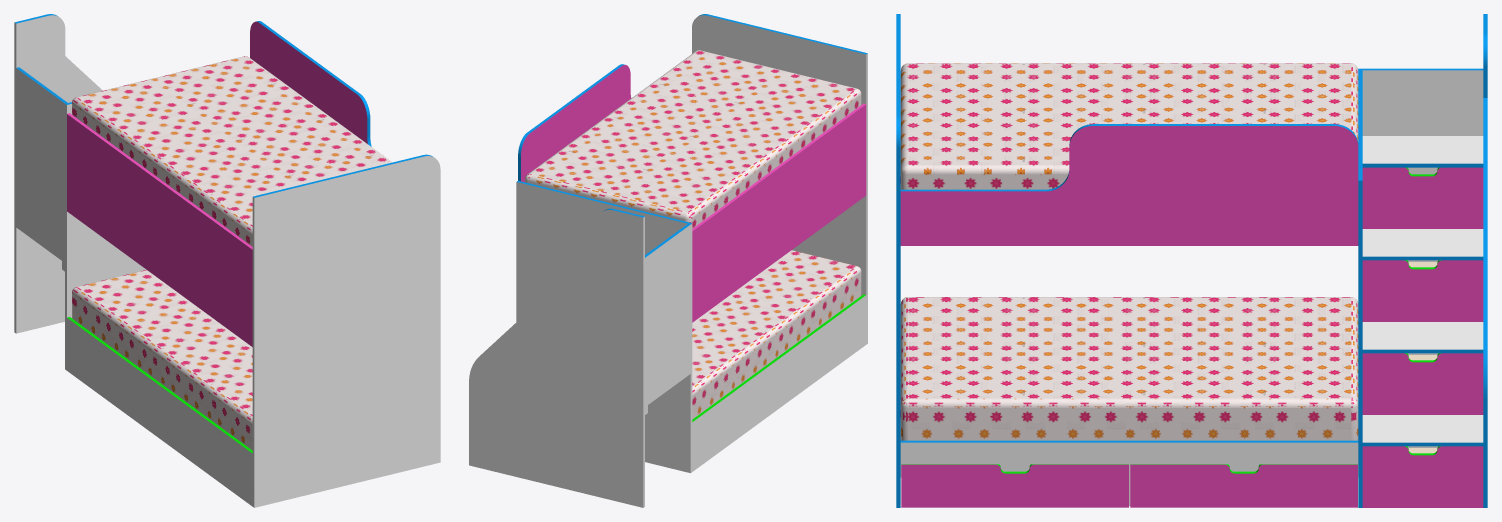
Rendered from Camarote-02.glb.
3 renders of one model, left to right at view 1: azimuth 30°, elevation 25°; view 2: azimuth 150°, elevation 25°; view 3: azimuth 270°, elevation 25°, orthographic. The views are drawn at different scales.
Visible parts, largest first — view 1: Cama-Espaldar01, 6615, Cama-Lateral04, 6616, Cama-Lateral02, Cama-Espaldar03, Cama-Lateral03, Cama-EscaleraApoyo01 (×2), Cama-Espaldar02, Cama-EscaleraApoyo02; view 2: Cama-Espaldar03, 6615, Cama-Lateral04, 6616, Cama-Espaldar02, Cama-Espaldar01, Cama-Lateral02, Cama-Lateral03, Cama-EscaleraApoyo01 (×2), Cama-EscaleraApoyo02; view 3: 6616, Cama-Lateral03, 6615, Cama-PuertaCajon02 (×4), Cama-PuertaCajon03 (×2), Cama-EscaleraSuperior02 (×3), Cama-Lateral01, Cama-EscaleraApoyo02, Cama-EscaleraSuperior0|, Cama-Espaldar01, Cama-Espaldar03, Cama-Espaldar02.
Part boxes in pixels (box(x1,y1,x2,y2)): Cama-Espaldar01: box(252, 154, 440, 507); 6615: box(72, 56, 392, 246); Cama-Lateral04: box(67, 113, 252, 346); 6616: box(72, 269, 252, 450); Cama-Lateral02: box(67, 317, 252, 506); Cama-Espaldar03: box(14, 14, 102, 333); Cama-Lateral03: box(250, 21, 371, 146); Cama-EscaleraApoyo01 (×2): box(16, 124, 64, 262); Cama-Espaldar02: box(65, 102, 145, 370); Cama-EscaleraApoyo02: box(16, 67, 67, 156); Cama-Espaldar03: box(469, 208, 644, 507); 6615: box(525, 50, 861, 228); Cama-Lateral04: box(692, 103, 866, 322); 6616: box(692, 250, 861, 419); Cama-Espaldar02: box(516, 180, 692, 473); Cama-Espaldar01: box(692, 14, 867, 344); Cama-Lateral02: box(692, 294, 866, 471); Cama-Lateral03: box(518, 64, 631, 182); Cama-EscaleraApoyo01 (×2): box(645, 277, 690, 406); Cama-EscaleraApoyo02: box(645, 224, 690, 307); 6616: box(900, 297, 1358, 440); Cama-Lateral03: box(900, 124, 1358, 245); 6615: box(900, 63, 1358, 189); Cama-PuertaCajon02 (×4): box(1362, 167, 1483, 507); Cama-PuertaCajon03 (×2): box(901, 464, 1357, 507); Cama-EscaleraSuperior02 (×3): box(1362, 229, 1483, 446); Cama-Lateral01: box(900, 440, 1358, 464); Cama-EscaleraApoyo02: box(1362, 68, 1483, 135); Cama-EscaleraSuperior0|: box(1362, 136, 1483, 167); Cama-Espaldar01: box(896, 14, 900, 507); Cama-Espaldar03: box(1483, 14, 1487, 507); Cama-Espaldar02: box(1358, 68, 1362, 507).
Bounding box in the file's own units: 1.1 × 1.75 × 2.45.
Materials: 1523 (732 with a texture image).
